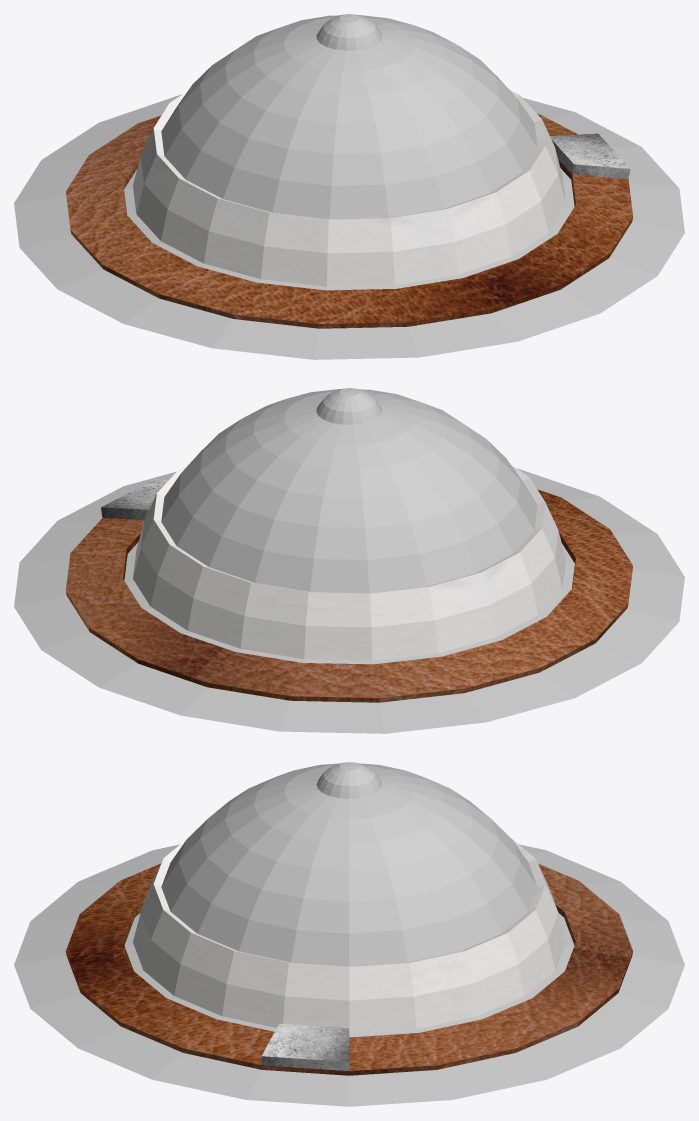
Rendered from sombreroExplorador.fbx.
3 renders of one model, top to bottom at view 1: azimuth 30°, elevation 25°; view 2: azimuth 150°, elevation 25°; view 3: azimuth 270°, elevation 25°, orthographic.
Parts seen in each view (by area): view 1: sombreroExplorador; view 2: sombreroExplorador; view 3: sombreroExplorador.
Part boxes in pixels (x1=…): sombreroExplorador: x1=14, y1=14, x2=684, y2=359; sombreroExplorador: x1=14, y1=388, x2=684, y2=733; sombreroExplorador: x1=14, y1=762, x2=684, y2=1106.
Bounding box in the file's own units: 4.58 × 1.5 × 4.58.
